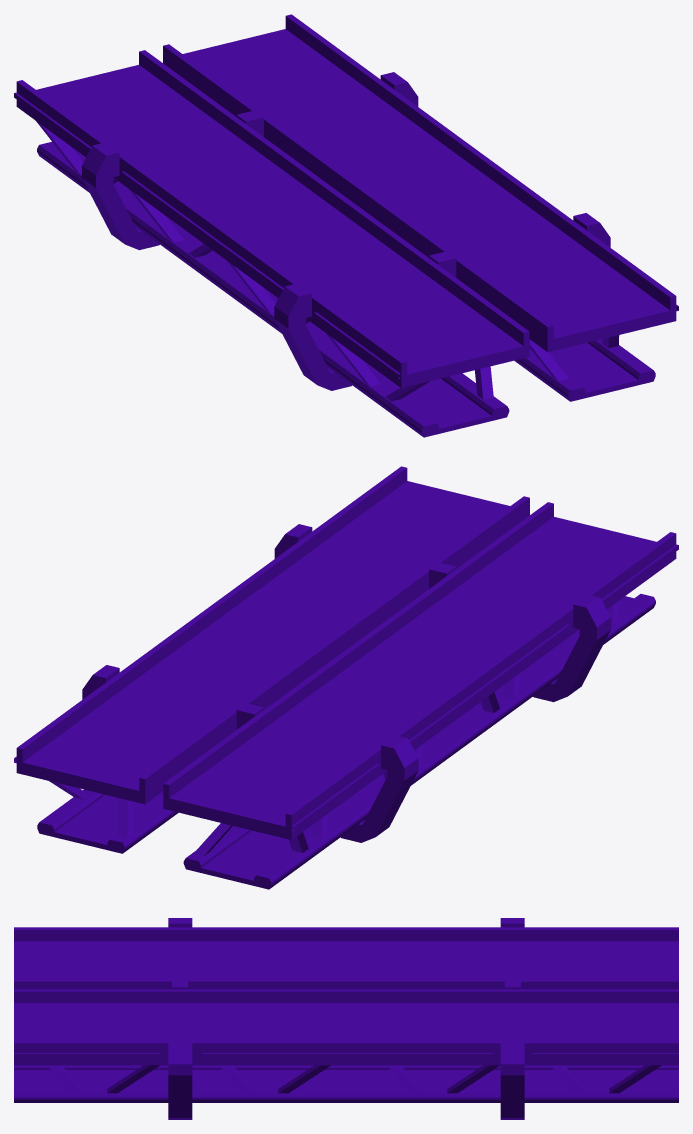
Rendered from SM_Obstacle_Train_Track.fbx.
The picture shows the model from 3 angles, top to bottom: view 1: azimuth 30°, elevation 25°; view 2: azimuth 150°, elevation 25°; view 3: azimuth 270°, elevation 25°; orthographic projection. The views are drawn at different scales.
Visible parts, largest first — view 1: SM_Tracks_low, SM_Frame_Body_low, SM_Side_Frames_low, SM_Lights_low, SM_Middle_Frames_low; view 2: SM_Tracks_low, SM_Frame_Body_low, SM_Side_Frames_low, SM_Lights_low, SM_Middle_Frames_low; view 3: SM_Tracks_low, SM_Frame_Body_low, SM_Side_Frames_low, SM_Lights_low, SM_Middle_Frames_low.
Boxes of the visible parts, left/top/right/bottom form: SM_Tracks_low: left=16, top=14, right=676, bottom=387; SM_Frame_Body_low: left=36, top=121, right=655, bottom=437; SM_Side_Frames_low: left=82, top=72, right=610, bottom=390; SM_Lights_low: left=14, top=92, right=678, bottom=378; SM_Middle_Frames_low: left=236, top=110, right=456, bottom=277; SM_Tracks_low: left=16, top=466, right=676, bottom=839; SM_Frame_Body_low: left=37, top=594, right=655, bottom=889; SM_Side_Frames_low: left=82, top=524, right=610, bottom=842; SM_Lights_low: left=14, top=544, right=678, bottom=830; SM_Middle_Frames_low: left=236, top=562, right=456, bottom=729; SM_Tracks_low: left=14, top=927, right=678, bottom=1065; SM_Frame_Body_low: left=14, top=1065, right=678, bottom=1102; SM_Side_Frames_low: left=168, top=918, right=524, bottom=1119; SM_Lights_low: left=14, top=1053, right=678, bottom=1057; SM_Middle_Frames_low: left=172, top=979, right=520, bottom=989.
Bounding box in the file's own units: 6.77 × 2.06 × 14.
